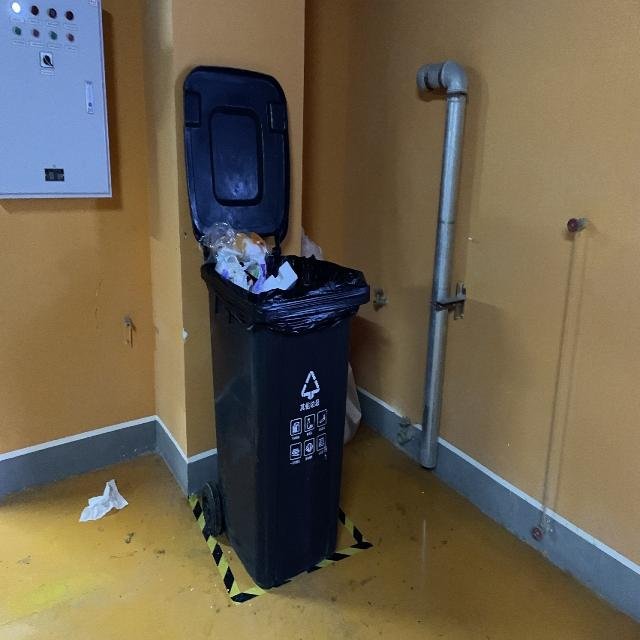garbage: (78, 478, 128, 524)
overflow: (198, 220, 371, 590)
